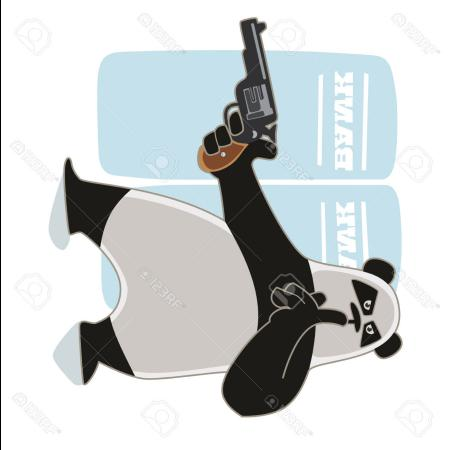Pistol: (195, 17, 278, 173)
